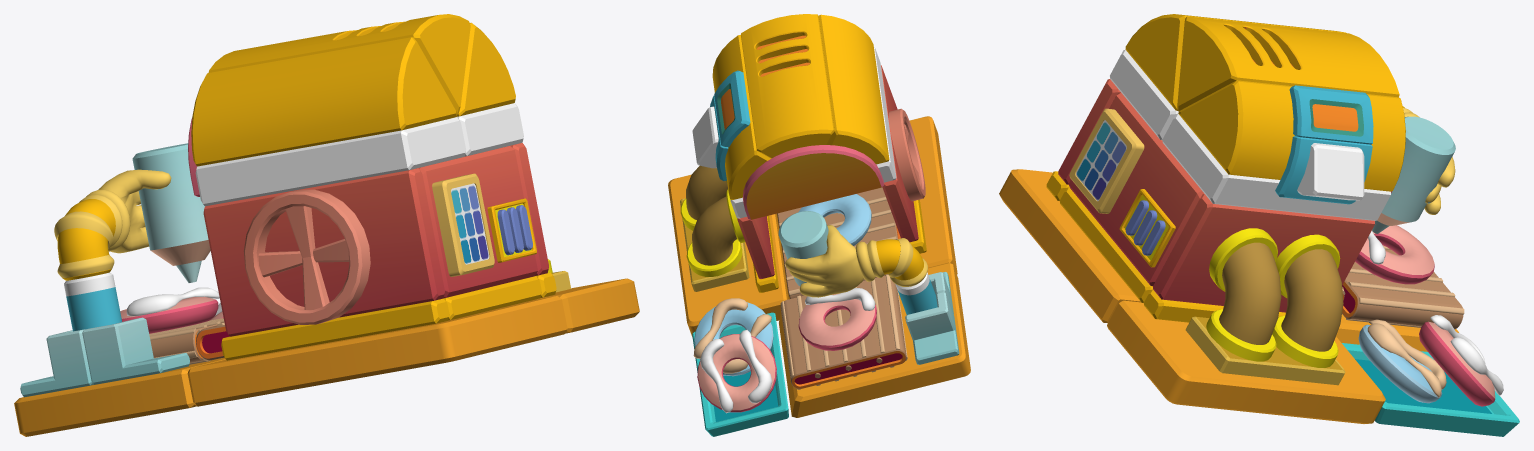
Rendered from lvl_1.fbx.
The picture shows the model from 3 angles, left to right: view 1: azimuth 30°, elevation 25°; view 2: azimuth 150°, elevation 25°; view 3: azimuth 270°, elevation 25°; orthographic projection. The views are drawn at different scales.
Parts seen in each view (by area): view 1: Board_AssemblyLine_18, Board_AssemblyLine_14, Board_AssemblyLine_28, Board_AssemblyLine_15, Board_AssemblyLine_31, Board_AssemblyLine_2, Board_AssemblyLine_29, Board_AssemblyLine_17, Board_AssemblyLine_11, Board_AssemblyLine_21, Board_AssemblyLine_30, Board_AssemblyLine_9 (+12 smaller); view 2: Board_AssemblyLine_17, Board_AssemblyLine_3, Board_AssemblyLine_0, Board_AssemblyLine_18, Board_AssemblyLine_29, Board_AssemblyLine_2, Board_AssemblyLine_27, Board_AssemblyLine_23, Board_AssemblyLine_28, Board_AssemblyLine_8, Board_AssemblyLine_33, Board_AssemblyLine_5 (+18 smaller); view 3: Board_AssemblyLine_27, Board_AssemblyLine_17, Board_AssemblyLine_19, Board_AssemblyLine_13, Board_AssemblyLine_32, Board_AssemblyLine_28, Board_AssemblyLine_33, Board_AssemblyLine_11, Board_AssemblyLine_16, Board_AssemblyLine_5, Board_AssemblyLine_2, Board_AssemblyLine_3 (+14 smaller).
Boxes of the visible parts, x1=… form: Board_AssemblyLine_18: x1=191, y1=37, x2=456, y2=166; Board_AssemblyLine_14: x1=203, y1=168, x2=444, y2=336; Board_AssemblyLine_28: x1=187, y1=296, x2=567, y2=406; Board_AssemblyLine_15: x1=195, y1=117, x2=465, y2=206; Board_AssemblyLine_31: x1=243, y1=189, x2=370, y2=324; Board_AssemblyLine_2: x1=86, y1=143, x2=210, y2=282; Board_AssemblyLine_29: x1=14, y1=357, x2=225, y2=436; Board_AssemblyLine_17: x1=208, y1=14, x2=470, y2=114; Board_AssemblyLine_11: x1=418, y1=146, x2=537, y2=297; Board_AssemblyLine_21: x1=221, y1=298, x2=449, y2=360; Board_AssemblyLine_30: x1=432, y1=173, x2=494, y2=276; Board_AssemblyLine_9: x1=54, y1=195, x2=122, y2=280; Board_AssemblyLine_17: x1=741, y1=14, x2=834, y2=158; Board_AssemblyLine_3: x1=780, y1=274, x2=907, y2=389; Board_AssemblyLine_0: x1=743, y1=145, x2=883, y2=219; Board_AssemblyLine_18: x1=818, y1=14, x2=889, y2=164; Board_AssemblyLine_29: x1=779, y1=263, x2=970, y2=417; Board_AssemblyLine_2: x1=778, y1=211, x2=875, y2=297; Board_AssemblyLine_27: x1=668, y1=174, x2=788, y2=337; Board_AssemblyLine_23: x1=697, y1=330, x2=776, y2=413; Board_AssemblyLine_28: x1=776, y1=116, x2=957, y2=299; Board_AssemblyLine_8: x1=798, y1=288, x2=876, y2=350; Board_AssemblyLine_33: x1=686, y1=189, x2=745, y2=276; Board_AssemblyLine_5: x1=692, y1=312, x2=788, y2=436; Board_AssemblyLine_27: x1=1107, y1=300, x2=1385, y2=423; Board_AssemblyLine_17: x1=1177, y1=16, x2=1399, y2=111; Board_AssemblyLine_19: x1=1178, y1=80, x2=1405, y2=191; Board_AssemblyLine_13: x1=1153, y1=194, x2=1374, y2=312; Board_AssemblyLine_32: x1=1206, y1=228, x2=1281, y2=361; Board_AssemblyLine_28: x1=999, y1=169, x2=1140, y2=323; Board_AssemblyLine_33: x1=1272, y1=234, x2=1343, y2=367; Board_AssemblyLine_11: x1=1068, y1=93, x2=1204, y2=286; Board_AssemblyLine_16: x1=1162, y1=113, x2=1390, y2=220; Board_AssemblyLine_5: x1=1342, y1=343, x2=1519, y2=436; Board_AssemblyLine_2: x1=1372, y1=112, x2=1455, y2=233; Board_AssemblyLine_3: x1=1342, y1=245, x2=1464, y2=329.
Bounding box in the file's own units: 11.12 × 9.74 × 10.65.
